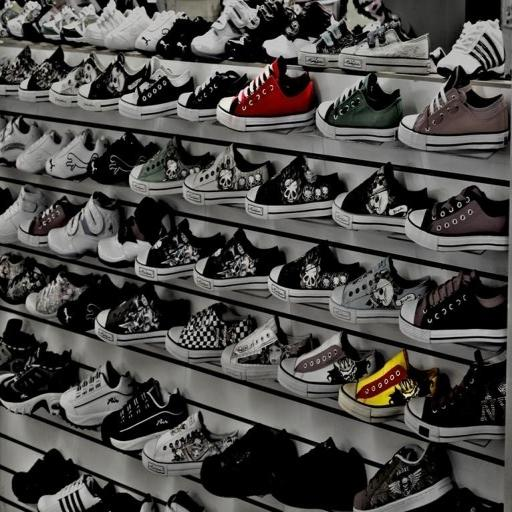shoe: (216, 57, 398, 131), (404, 350, 507, 443), (398, 66, 509, 151), (338, 349, 447, 423), (399, 271, 507, 343), (329, 256, 435, 324), (201, 424, 298, 498), (332, 162, 432, 233), (272, 437, 367, 511), (278, 331, 380, 399), (405, 185, 509, 251), (353, 443, 452, 512), (101, 379, 188, 451), (225, 0, 294, 90), (142, 412, 238, 476), (220, 316, 314, 381), (246, 156, 342, 219), (94, 283, 190, 346), (316, 73, 402, 142), (268, 242, 364, 303), (193, 228, 285, 291), (134, 219, 226, 281), (0, 342, 78, 414), (182, 144, 274, 205), (165, 303, 256, 362), (98, 197, 174, 266), (129, 137, 215, 196), (48, 191, 122, 257), (60, 361, 134, 427), (338, 21, 430, 74), (118, 56, 194, 119), (57, 275, 137, 332), (262, 1, 334, 60), (190, 0, 260, 59), (436, 19, 504, 79), (77, 53, 147, 111), (88, 132, 159, 185), (11, 448, 79, 503), (177, 70, 249, 121), (298, 19, 367, 68), (18, 196, 82, 247), (45, 128, 108, 179), (26, 271, 94, 318), (48, 52, 106, 107), (18, 47, 72, 102), (0, 257, 59, 305), (0, 185, 47, 243), (156, 13, 210, 61), (36, 474, 104, 512), (15, 129, 73, 173), (0, 318, 39, 380), (0, 116, 42, 166), (104, 7, 151, 51), (134, 11, 181, 53), (84, 0, 125, 47), (0, 46, 37, 96), (344, 0, 400, 33), (22, 0, 58, 42), (61, 4, 98, 43), (6, 0, 42, 38), (41, 5, 77, 41), (0, 253, 25, 300), (0, 0, 23, 37)
